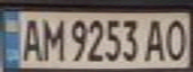2: (84, 16, 106, 63)
3: (121, 16, 142, 63)
5: (103, 16, 124, 63)
9: (66, 16, 87, 63)
A: (15, 15, 45, 62), (142, 16, 169, 63)
M: (39, 15, 66, 62)
O: (163, 16, 190, 62)
